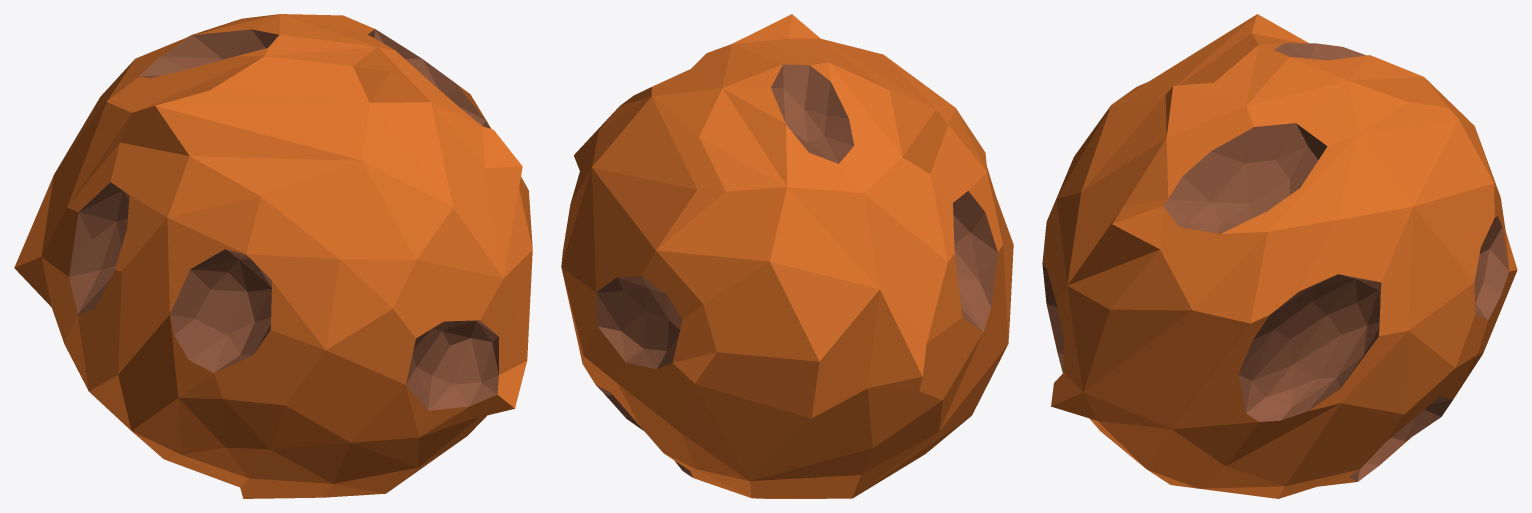
File: Planet16.fbx
3 renders of one model, left to right at view 1: azimuth 30°, elevation 25°; view 2: azimuth 150°, elevation 25°; view 3: azimuth 270°, elevation 25°, orthographic. The views are drawn at different scales.
Visible parts, largest first — view 1: Planet16; view 2: Planet16; view 3: Planet16.
Boxes of the visible parts, x1,y1,x2,y2 form: Planet16: (14,14,532,498); Planet16: (561,14,1013,498); Planet16: (1042,14,1517,498).
Size of the model in its own units: 10.9 by 10.7 by 11.11.
